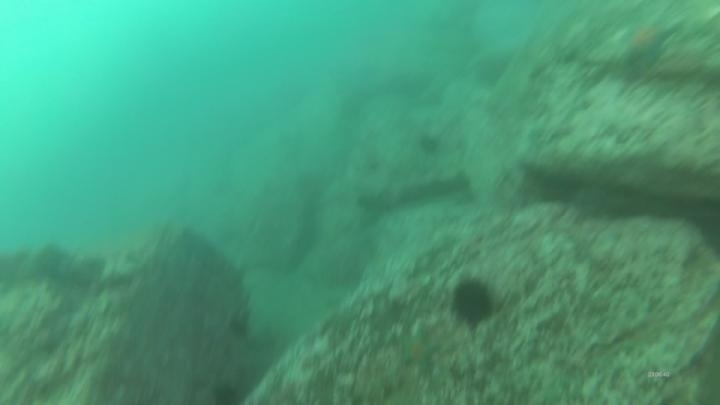echinus: (448, 275, 497, 329), (209, 380, 245, 405), (415, 130, 444, 159)
starfish: (616, 16, 683, 75), (395, 328, 441, 373)
